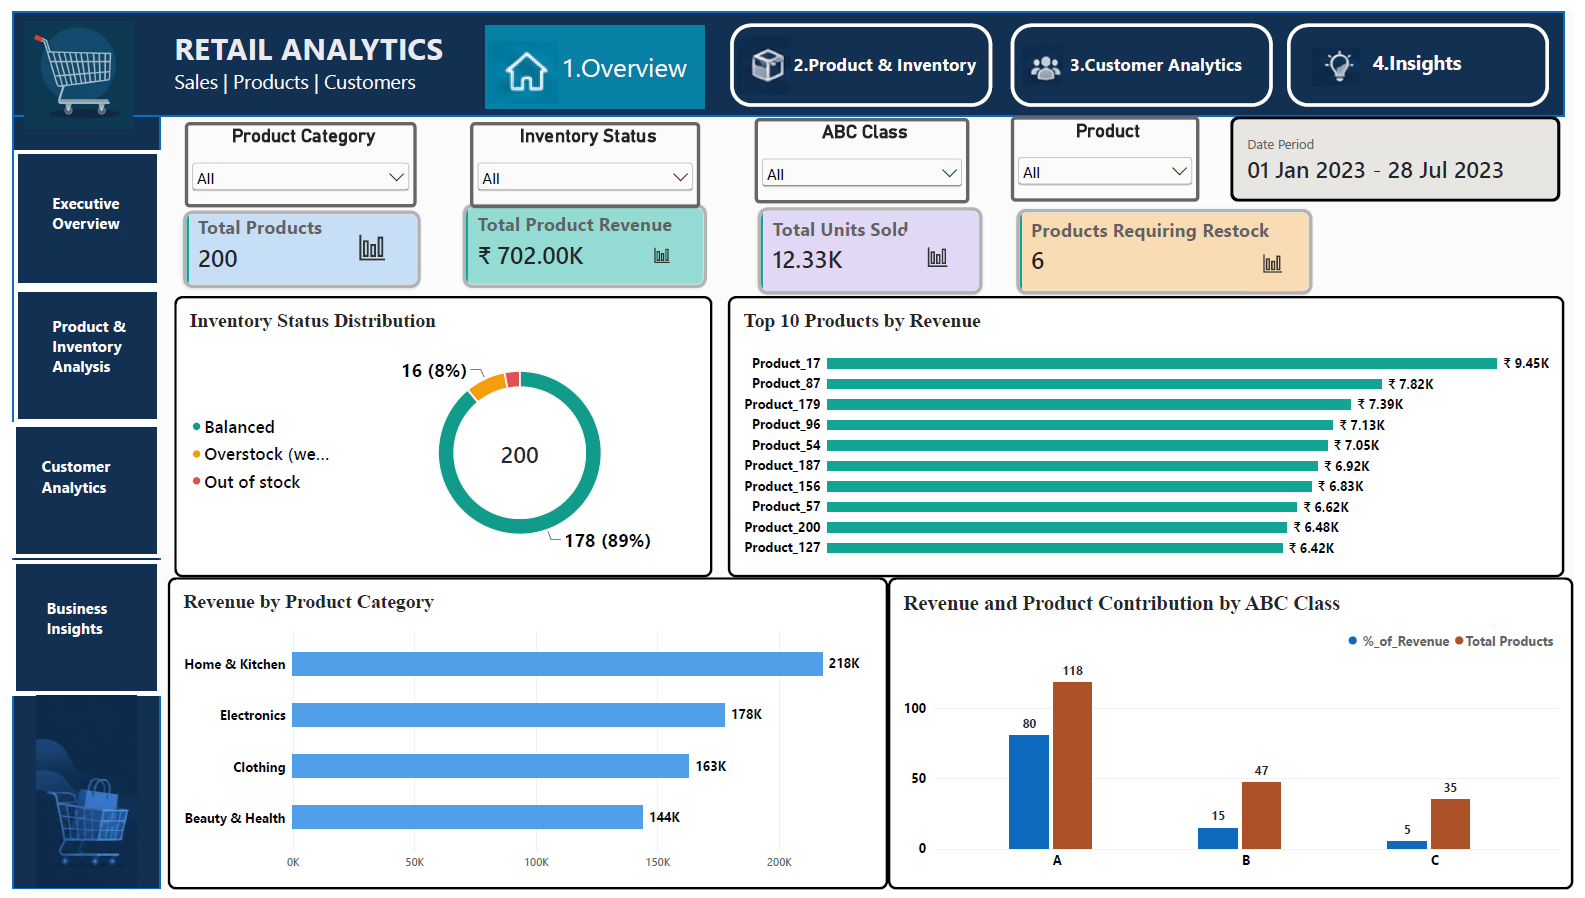

The page's visual inventory and layout, read from the dashboard file:
{"tool":"powerbi","page":{"name":"Product & Inventory Analysis","canvas":[1920,1080],"ordinal":1},"visuals":[{"type":"cardVisual","fields":{"Data":["product_performance_full.Total Products"]},"box":[209.8,244.8,292.6,95.7],"z":0},{"type":"cardVisual","fields":{"Data":["product_performance_full.Total Product Revenue"]},"box":[554,237.4,300,103.1],"z":1000},{"type":"cardVisual","title":"Total Units Sold","fields":{"Data":["product_performance_full.Total Units Sold_p"]},"box":[916.6,241.1,276.1,106.7],"z":2000},{"type":"cardVisual","fields":{"Data":["restock_priority_list.Products Requiring Restock"]},"box":[1235,242.9,364.4,104.9],"z":3000},{"type":"clusteredBarChart","title":"Top 10 Products by Revenue","fields":{"Category":["product_performance_full.ProductName"],"Y":["Sum(product_performance_full.Revenue)"]},"box":[879.8,349.7,1028.8,346],"z":4000},{"type":"clusteredBarChart","title":"Revenue by Product Category","fields":{"Category":["category_performance.Category"],"Y":["Sum(category_performance.revenue)"]},"box":[191.4,695.7,885.3,384.7],"z":5000},{"type":"donutChart","title":"Inventory Status Distribution","fields":{"Category":["inventory_flag_summary.InventoryFlag"],"Y":["Sum(inventory_flag_summary.products)"]},"box":[198.8,349.7,662.6,346],"z":6000},{"type":"clusteredColumnChart","title":"Revenue and Product Contribution  by ABC Class","fields":{"Category":["abc_summary.ABCClass"],"Y":["Sum(abc_summary.pct_of_revenue)","Sum(abc_summary.products)"]},"box":[1076.7,695.7,842.9,384.7],"z":7000},{"type":"slicer","title":"Product Category","fields":{"Values":["clean_products.Category"]},"box":[211.7,136.2,285.3,104.9],"z":8001},{"type":"slicer","title":"Inventory Status","fields":{"Values":["inventory_flag_summary.InventoryFlag"]},"box":[563.2,136.2,283,105.7],"z":8002},{"type":"slicer","title":"ABC Class","fields":{"Values":["abc_summary.ABCClass"]},"box":[912.9,130.7,264.2,105.7],"z":8003},{"type":"shape","box":[0,0,1908.6,128.8],"z":8004},{"type":"shape","box":[0,128.8,182.2,949.7],"z":8005},{"type":"image","box":[14.7,5.5,132.5,143.6],"z":8006},{"type":"textbox","box":[198.8,20.2,349.1,118.9],"z":8007},{"type":"shape","box":[581.6,16.6,269.6,102.9],"z":8008},{"type":"image","box":[581.6,36.8,92.6,76.2],"z":8009},{"type":"textbox","box":[675.5,46,177.4,60.4],"z":8010},{"type":"shape","box":[883.4,14.7,322,102],"z":8011},{"type":"shape","box":[1227.6,14.7,322,102],"z":8012},{"type":"shape","box":[1568.1,14.7,322,102],"z":8013},{"type":"image","box":[883.4,31.3,82.3,70],"z":8014},{"type":"image","box":[1244.2,23.9,48,84],"z":8015},{"type":"image","box":[1599.4,27.6,58,80],"z":8016},{"type":"textbox","box":[960.7,49.7,232.1,60.4],"z":8017},{"type":"textbox","box":[1301.2,49.7,249.1,79.2],"z":8018},{"type":"textbox","box":[1673,46,198.1,90.6],"z":8019},{"type":"shape","box":[1.8,171.2,180.4,167.5],"z":8020},{"type":"shape","box":[1.8,340.5,180.4,165.6],"z":8021},{"type":"shape","box":[0,506.1,182.2,165.6],"z":8022},{"type":"shape","box":[0,675.5,182.2,165.6],"z":8024},{"type":"textbox","box":[49.1,222.6,198.1,117],"z":8025},{"type":"textbox","box":[49.1,373.6,134,117],"z":8026},{"type":"textbox","box":[35.8,547.2,150,150],"z":8027},{"type":"textbox","box":[41.5,720.8,150,150],"z":8029},{"type":"image","box":[0,841.5,183,235.8],"z":8030},{"type":"cardVisual","fields":{"Data":["clean_sales.Date Period"]},"box":[1498.2,128.8,405.7,105.7],"z":8031},{"type":"clusteredColumnChart","fields":{"Category":["DateTable.Date.Variation.Date Hierarchy.Month"],"Y":["clean_sales.Total Revenue"]},"box":[401.2,252.1,82.8,79.1],"z":8032},{"type":"clusteredColumnChart","fields":{"Category":["DateTable.Date.Variation.Date Hierarchy.Month"],"Y":["clean_sales.Total Revenue"]},"box":[763.8,270.6,69.9,60.7],"z":8033},{"type":"clusteredColumnChart","fields":{"Category":["DateTable.Date.Variation.Date Hierarchy.Month"],"Y":["clean_sales.Total Revenue"]},"box":[1096.9,268.7,81,68.1],"z":8034},{"type":"clusteredColumnChart","fields":{"Category":["DateTable.Date.Variation.Date Hierarchy.Month"],"Y":["clean_sales.Total Revenue"]},"box":[1511.1,277.9,77.3,66.3],"z":8035},{"type":"slicer","title":"Product","fields":{"Values":["clean_products.ProductName"]},"box":[1227.6,128.8,231.9,104.9],"z":8036}]}

Visuals, with their boxes in screenshot pixels (x1, y1, x2, y2), scaled from the page's 1920x1080 canvas onto the 1585x898 screenshot:
cardVisual - product_performance_full.Total Products: 173 204 415 283
cardVisual - product_performance_full.Total Product Revenue: 457 197 705 283
"Total Units Sold" cardVisual: 757 200 985 289
cardVisual - restock_priority_list.Products Requiring Restock: 1020 202 1320 289
"Top 10 Products by Revenue" clusteredBarChart: 726 291 1576 578
"Revenue by Product Category" clusteredBarChart: 158 578 889 897
"Inventory Status Distribution" donutChart: 164 291 711 578
"Revenue and Product Contribution  by ABC Class" clusteredColumnChart: 889 578 1584 897
"Product Category" slicer: 175 113 410 200
"Inventory Status" slicer: 465 113 699 201
"ABC Class" slicer: 754 109 972 197
shape: 0 0 1576 107
shape: 0 107 150 897
image: 12 5 122 124
textbox: 164 17 452 116
shape: 480 14 703 99
image: 480 31 557 94
textbox: 558 38 704 88
shape: 729 12 995 97
shape: 1013 12 1279 97
shape: 1294 12 1560 97
image: 729 26 797 84
image: 1027 20 1067 90
image: 1320 23 1368 89
textbox: 793 41 985 92
textbox: 1074 41 1280 107
textbox: 1381 38 1545 114
shape: 1 142 150 282
shape: 1 283 150 421
shape: 0 421 150 559
shape: 0 562 150 699
textbox: 41 185 204 282
textbox: 41 311 151 408
textbox: 30 455 153 580
textbox: 34 599 158 724
image: 0 700 151 896
cardVisual - clean_sales.Date Period: 1237 107 1572 195
clusteredColumnChart - DateTable.Date.Variation.Date Hierarchy.Month x clean_sales.Total Revenue: 331 210 400 275
clusteredColumnChart - DateTable.Date.Variation.Date Hierarchy.Month x clean_sales.Total Revenue: 631 225 688 275
clusteredColumnChart - DateTable.Date.Variation.Date Hierarchy.Month x clean_sales.Total Revenue: 906 223 972 280
clusteredColumnChart - DateTable.Date.Variation.Date Hierarchy.Month x clean_sales.Total Revenue: 1247 231 1311 286
"Product" slicer: 1013 107 1205 194
